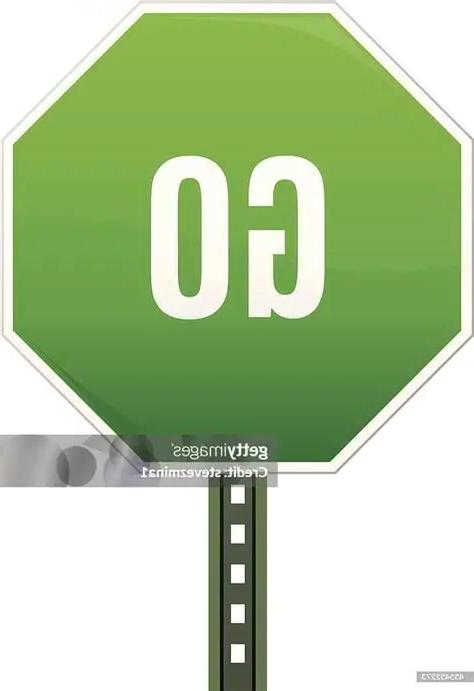Go: (5, 3, 472, 469)
